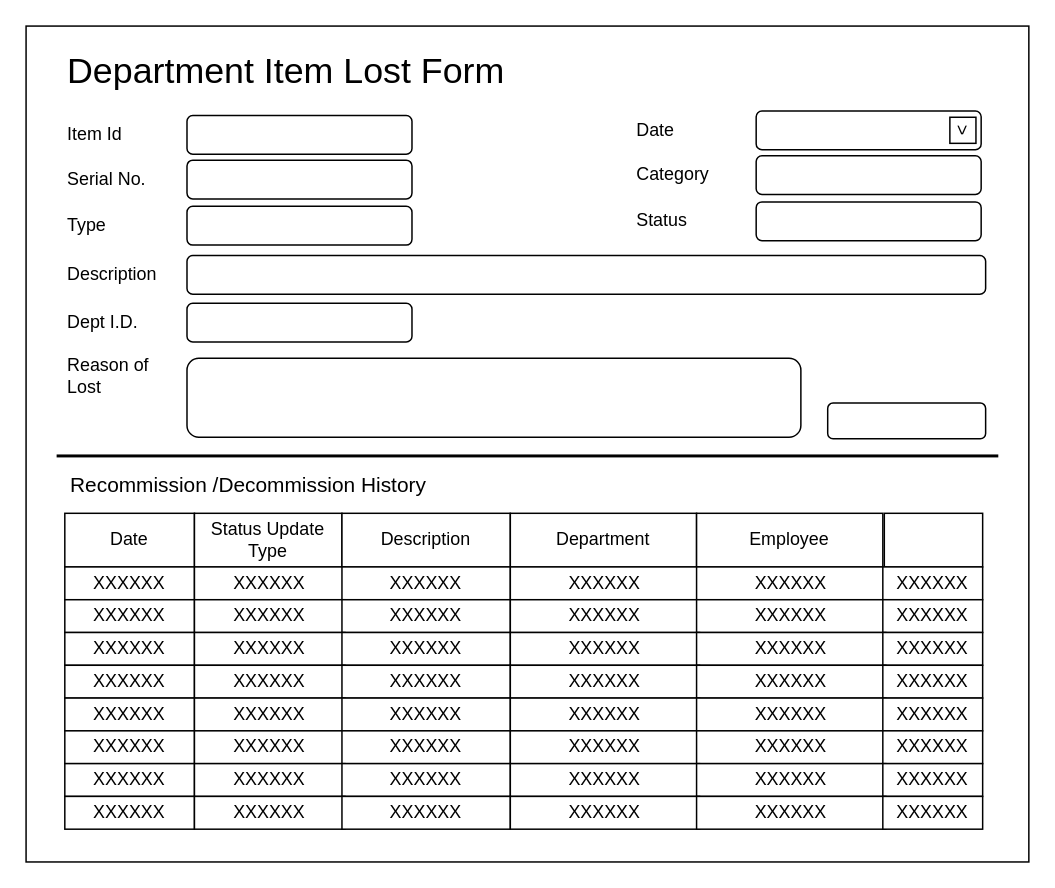
Image size: 1055x888. Some labels were removed from this diagram. The shapes that lost their labels are listed below. From the top down, each one's centre as x and y in pixels, then its label:
At (906,420): "Create Report".
At (933,539): "Admin".
